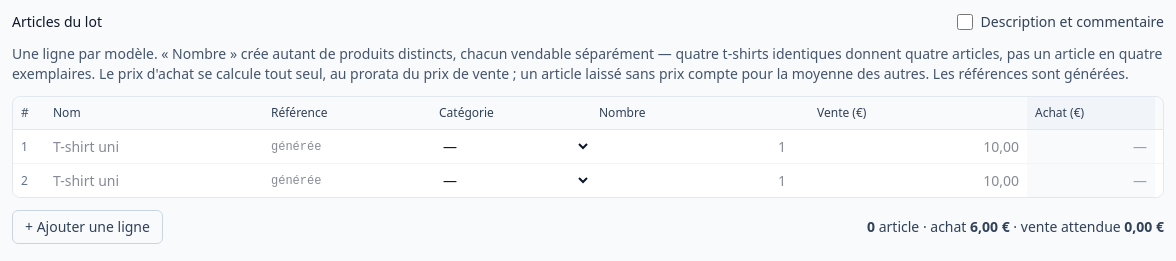
Scenario: LotLines › ne fait pas payer la ligne vide gardée en bas du tableau
Type "Vrac" into the 1st field with placeholder "T-shirt uni" at [154, 146], box [45,130,263,162]
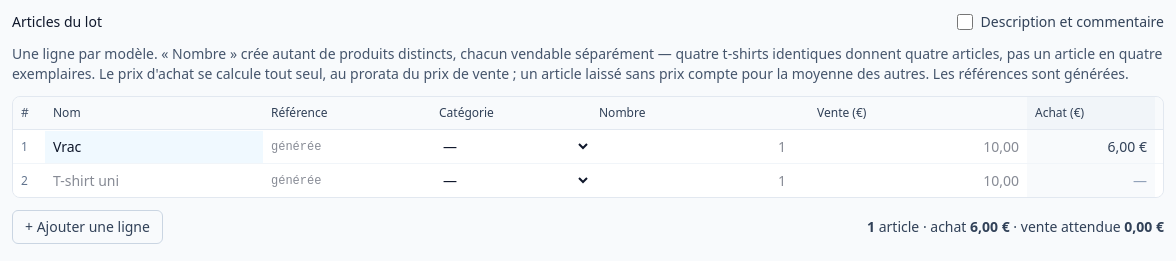
Expected: the message shows "1 article", [867,217,1164,237]
